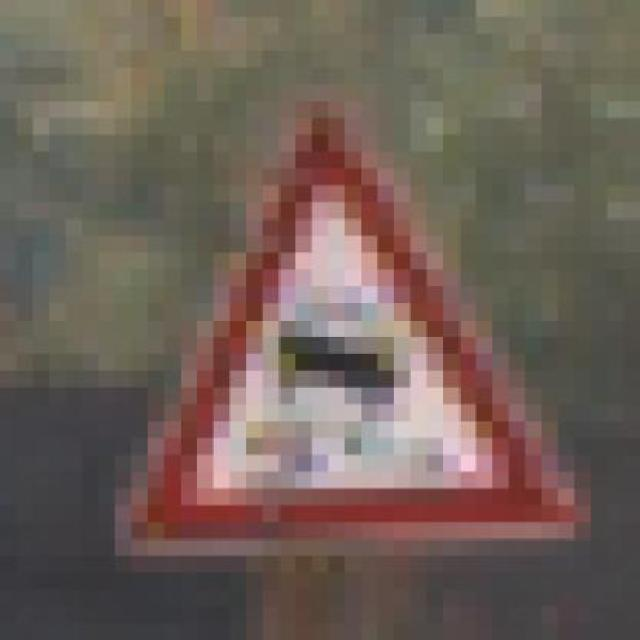Slippery Road Ahead: (87, 105, 613, 560)
